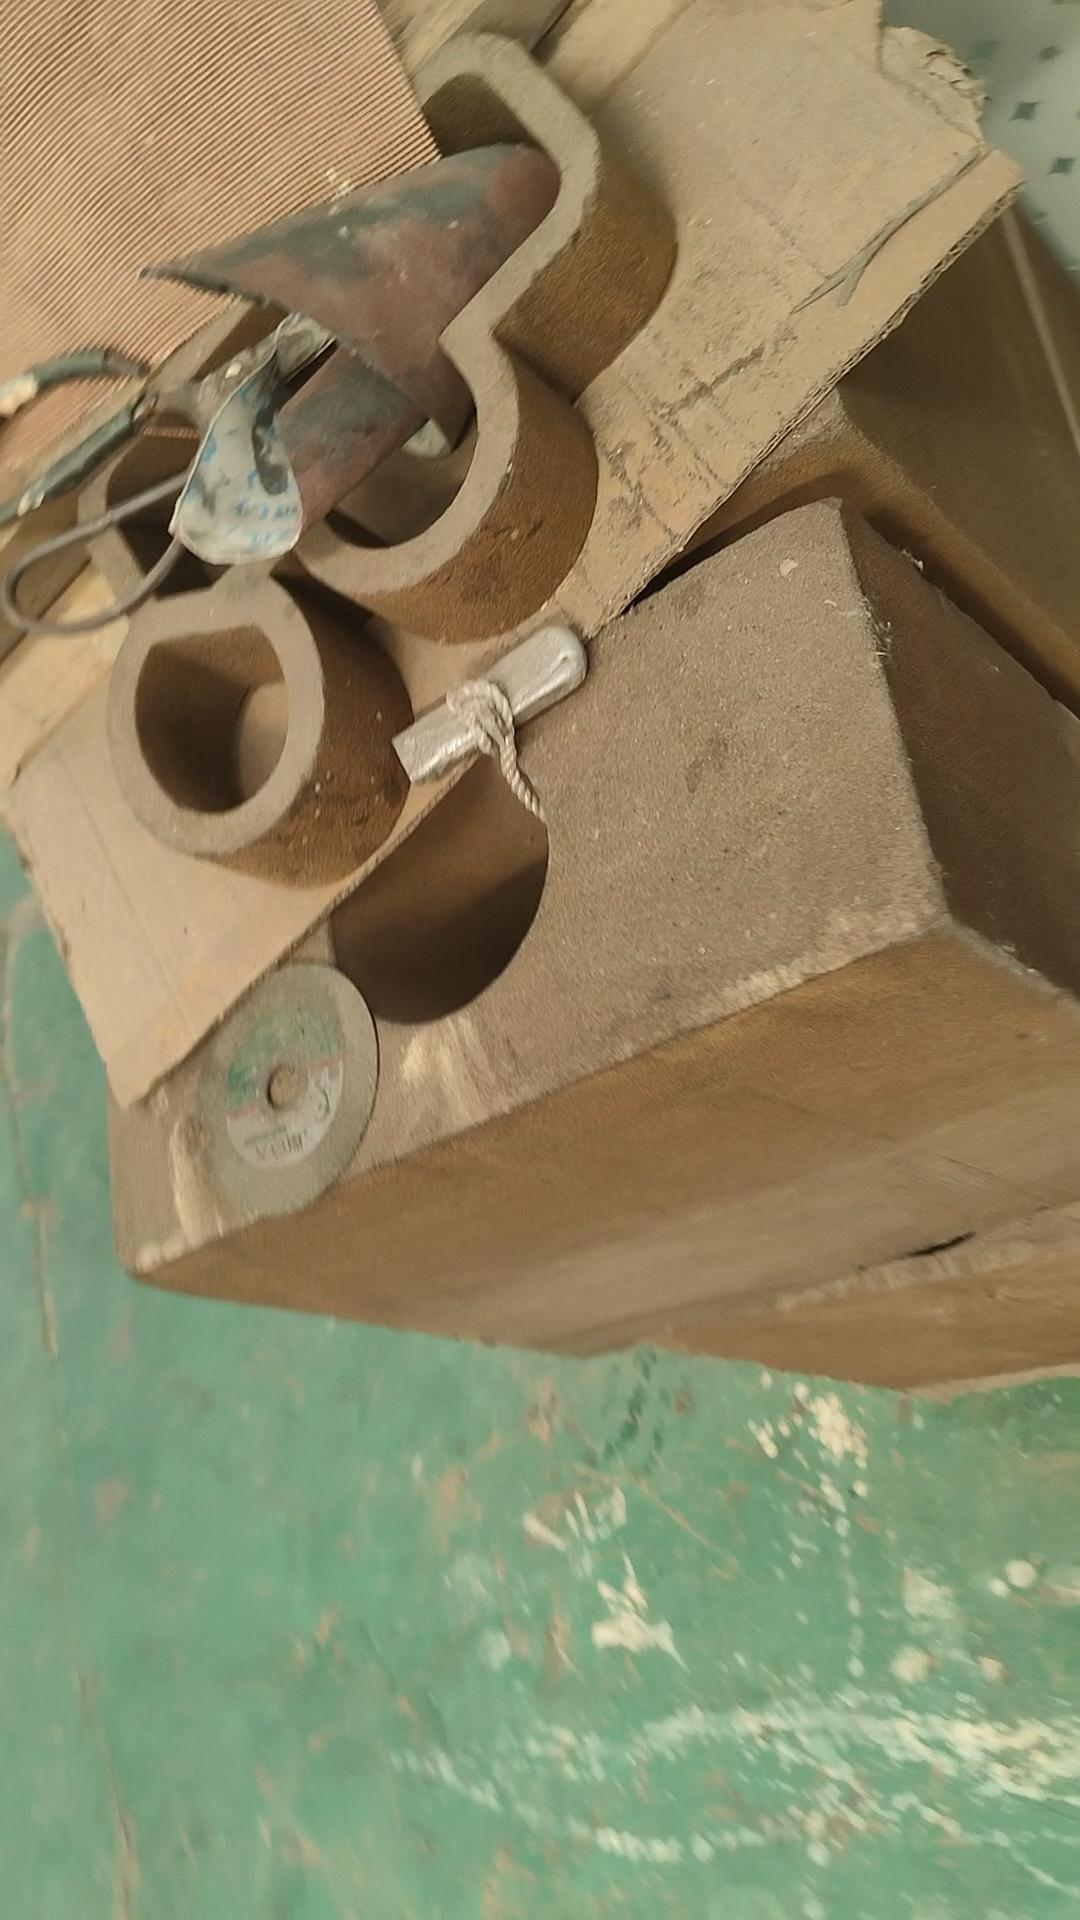pouring hole: (326, 742, 549, 1025)
